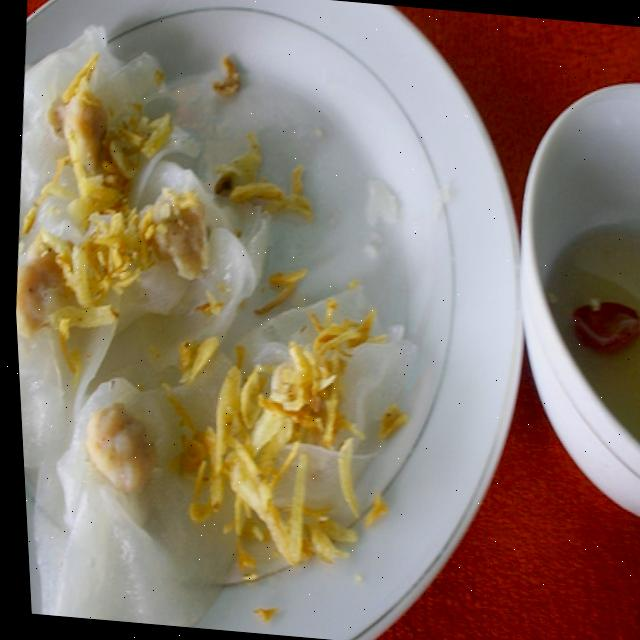带馅早点: (0, 0, 571, 633)
